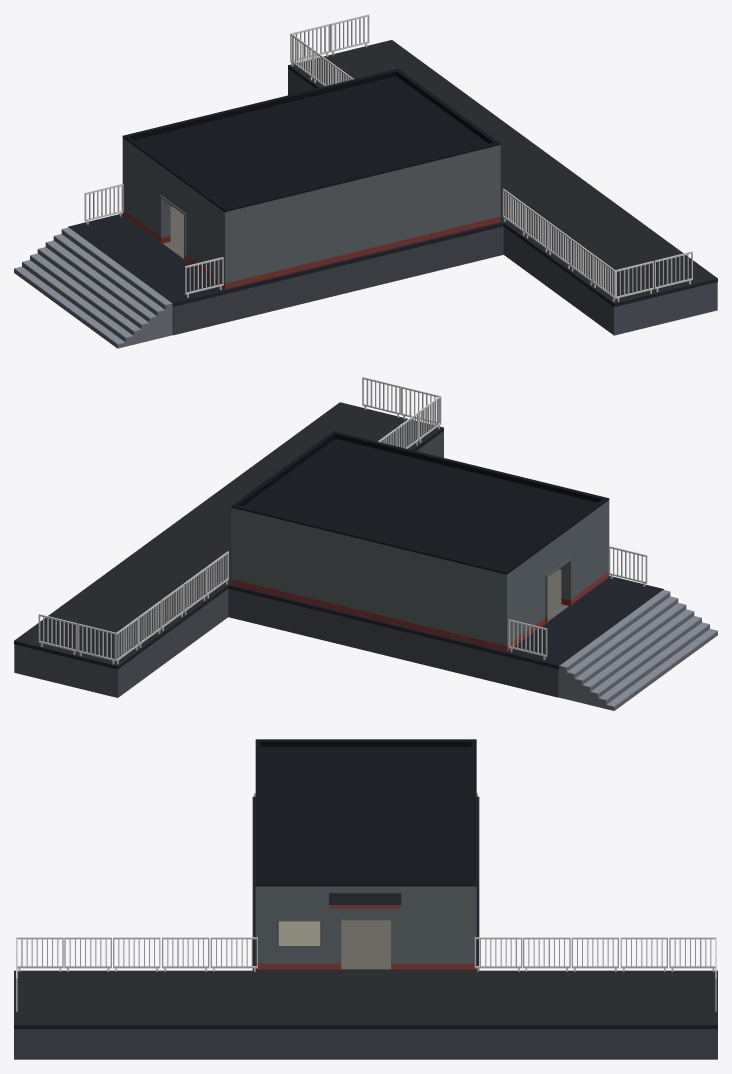
File: Platform.fbx
The picture shows the model from 3 angles, top to bottom: view 1: azimuth 30°, elevation 25°; view 2: azimuth 150°, elevation 25°; view 3: azimuth 270°, elevation 25°; orthographic projection. The views are drawn at different scales.
Visible parts, largest first — view 1: StationBuilding, Platform, Stairs, Fence.014, Fence.013, Fence.011, Fence.015, Fence, Fence.004, Fence.010, Fence.005, Fence.001 (+4 smaller); view 2: StationBuilding, Platform, Stairs, Fence.014, Fence.011, Fence.015, Fence.013, Fence.012, Fence.005, Fence.006, Fence.008, Fence.004 (+4 smaller); view 3: Platform, StationBuilding, StationLabel, StationDesk, Fence.009, Fence.001, Fence.007, Fence.003, Fence.008, Fence, Fence.002, Fence.006 (+2 smaller).
Part boxes in pixels (x1=…): StationBuilding: x1=122, y1=68, x2=500, y2=289; Platform: x1=68, y1=40, x2=717, y2=335; Stairs: x1=14, y1=227, x2=172, y2=348; Fence.014: x1=84, y1=183, x2=123, y2=224; Fence.013: x1=330, y1=14, x2=369, y2=55; Fence.011: x1=654, y1=251, x2=692, y2=292; Fence.015: x1=185, y1=257, x2=223, y2=297; Fence: x1=502, y1=188, x2=525, y2=235; Fence.004: x1=592, y1=254, x2=615, y2=301; Fence.010: x1=615, y1=261, x2=653, y2=301; Fence.005: x1=290, y1=33, x2=313, y2=80; Fence.001: x1=525, y1=205, x2=548, y2=252; StationBuilding: x1=231, y1=431, x2=609, y2=651; Platform: x1=14, y1=402, x2=663, y2=697; Stairs: x1=559, y1=590, x2=717, y2=710; Fence.014: x1=508, y1=619, x2=547, y2=660; Fence.011: x1=362, y1=377, x2=401, y2=417; Fence.015: x1=608, y1=546, x2=647, y2=586; Fence.013: x1=38, y1=614, x2=77, y2=654; Fence.012: x1=77, y1=623, x2=115, y2=664; Fence.005: x1=115, y1=617, x2=138, y2=664; Fence.006: x1=138, y1=600, x2=161, y2=647; Fence.008: x1=183, y1=567, x2=206, y2=614; Fence.004: x1=418, y1=396, x2=441, y2=442; Platform: x1=14, y1=796, x2=717, y2=1059; StationBuilding: x1=255, y1=739, x2=476, y2=969; StationLabel: x1=329, y1=892, x2=401, y2=908; StationDesk: x1=277, y1=920, x2=321, y2=946; Fence.009: x1=474, y1=937, x2=522, y2=971; Fence.001: x1=162, y1=937, x2=209, y2=971; Fence.007: x1=571, y1=937, x2=618, y2=971; Fence.003: x1=64, y1=937, x2=111, y2=971; Fence.008: x1=523, y1=937, x2=570, y2=971; Fence: x1=210, y1=937, x2=257, y2=971; Fence.002: x1=113, y1=937, x2=160, y2=971; Fence.006: x1=620, y1=937, x2=667, y2=971.
Size of the model in its own units: 22.4 by 4.86 by 25.85.
